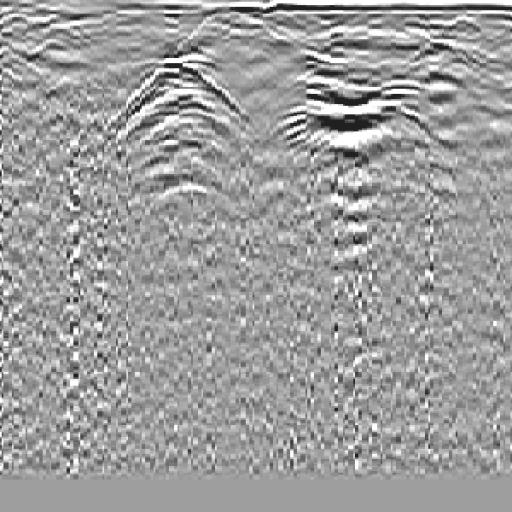metalic: (268, 44, 472, 192), (100, 51, 251, 200)
